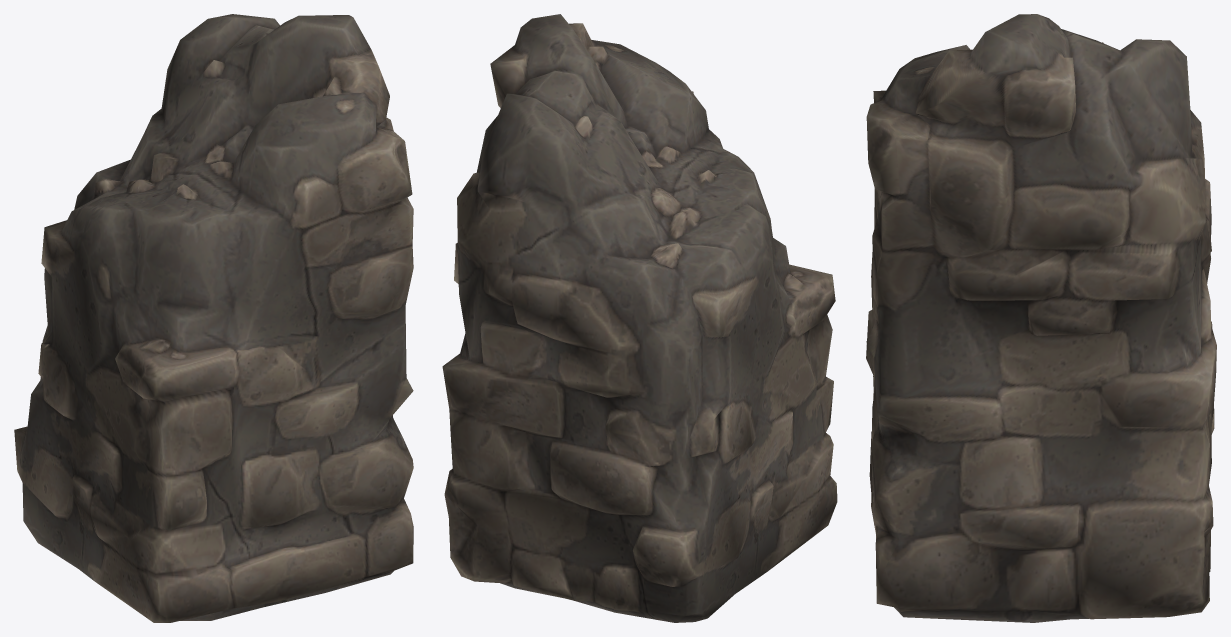
File: Pillar_B_Dark.fbx
The picture shows the model from 3 angles, left to right: view 1: azimuth 30°, elevation 25°; view 2: azimuth 150°, elevation 25°; view 3: azimuth 270°, elevation 25°; orthographic projection. The views are drawn at different scales.
Visible parts, largest first — view 1: Dn_HL_UND_Pillars_A_02.001; view 2: Dn_HL_UND_Pillars_A_02.001; view 3: Dn_HL_UND_Pillars_A_02.001.
Boxes of the visible parts, box(x1,y1,x2,y2) form: Dn_HL_UND_Pillars_A_02.001: box(14, 14, 413, 622); Dn_HL_UND_Pillars_A_02.001: box(442, 14, 837, 622); Dn_HL_UND_Pillars_A_02.001: box(866, 14, 1216, 622).
Bounding box in the file's own units: 3460 × 6248 × 3368.
